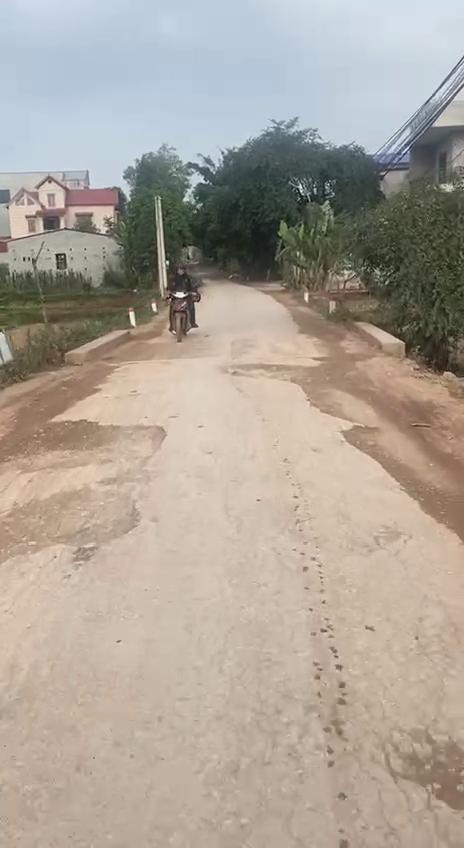pothole: (0, 416, 181, 480), (0, 488, 143, 556), (220, 358, 305, 381)
